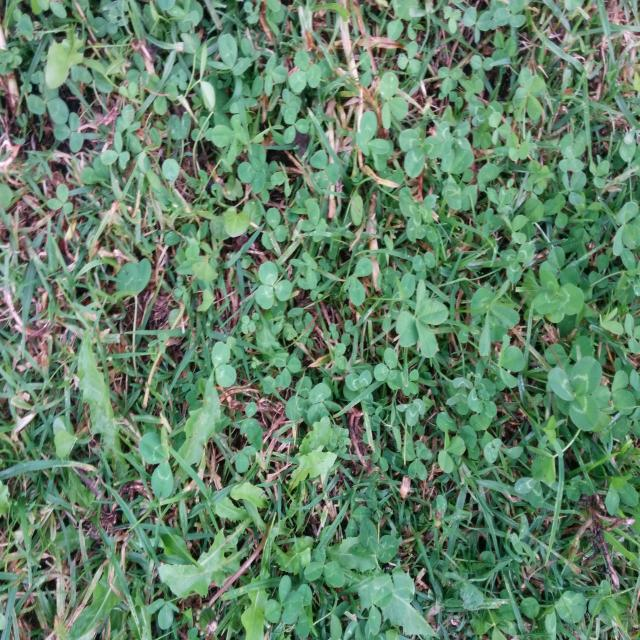Four Leaf Clover: (396, 279, 448, 358)
